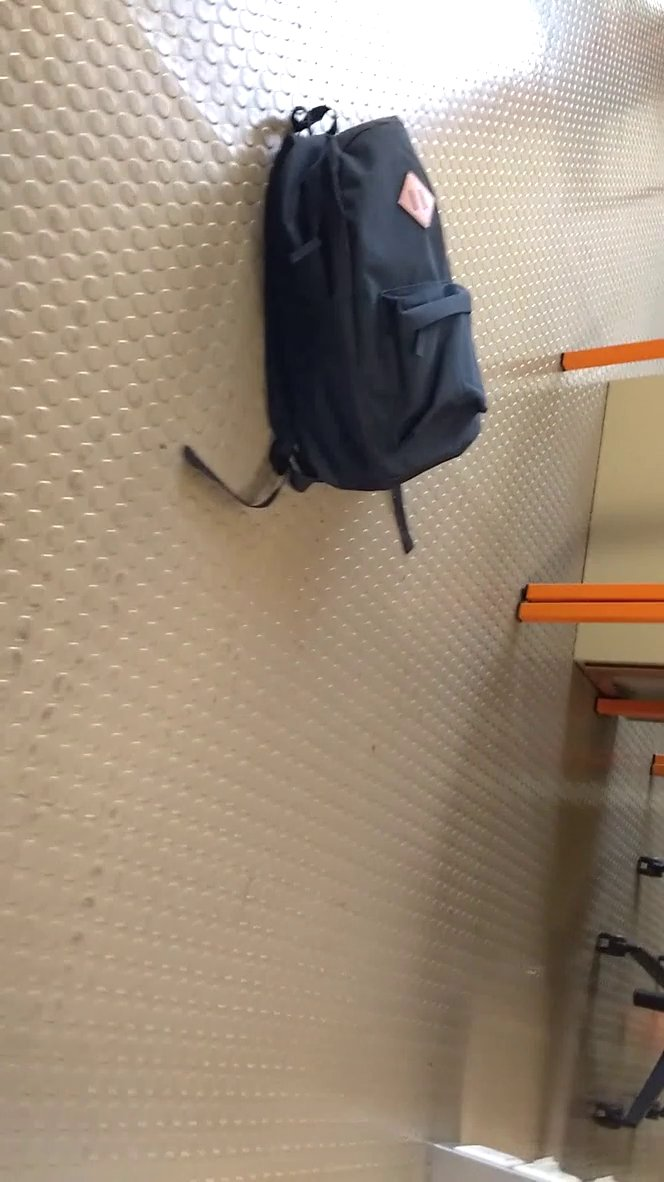bag: (171, 91, 493, 579)
